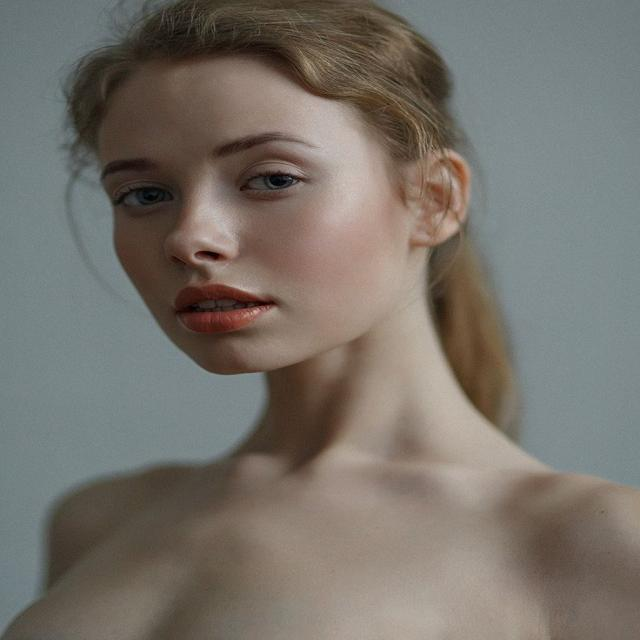earlobe: (409, 206, 457, 246)
eye: (238, 170, 310, 196), (116, 185, 178, 209)
nose: (163, 253, 237, 284)
wholeear: (409, 148, 472, 246)
